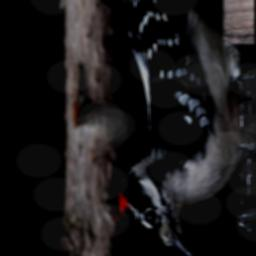Woodpecker: (63, 0, 248, 256)
